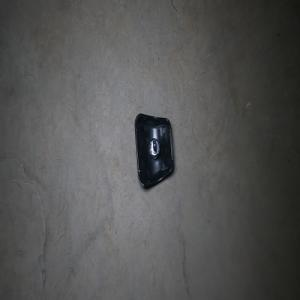LuggagePart: (133, 112, 175, 189)
